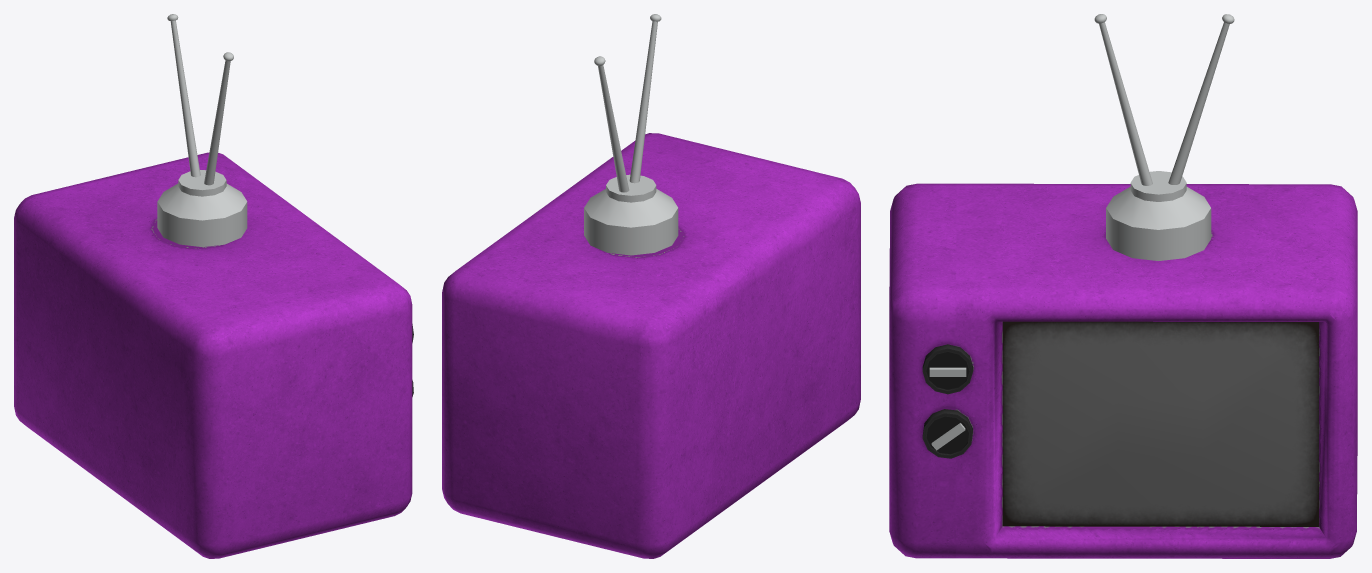
The picture shows the model from 3 angles, left to right: view 1: azimuth 30°, elevation 25°; view 2: azimuth 150°, elevation 25°; view 3: azimuth 270°, elevation 25°; orthographic projection. The views are drawn at different scales.
Visible parts, largest first — view 1: television; view 2: television; view 3: television.
Part boxes in pixels (x1,y1,x2,y2): television: (14,14,413,558); television: (442,14,860,558); television: (889,14,1357,558).
Size of the model in its own units: 0.5365 by 0.965 by 0.828.
Materials: 1 (1 with a texture image).
